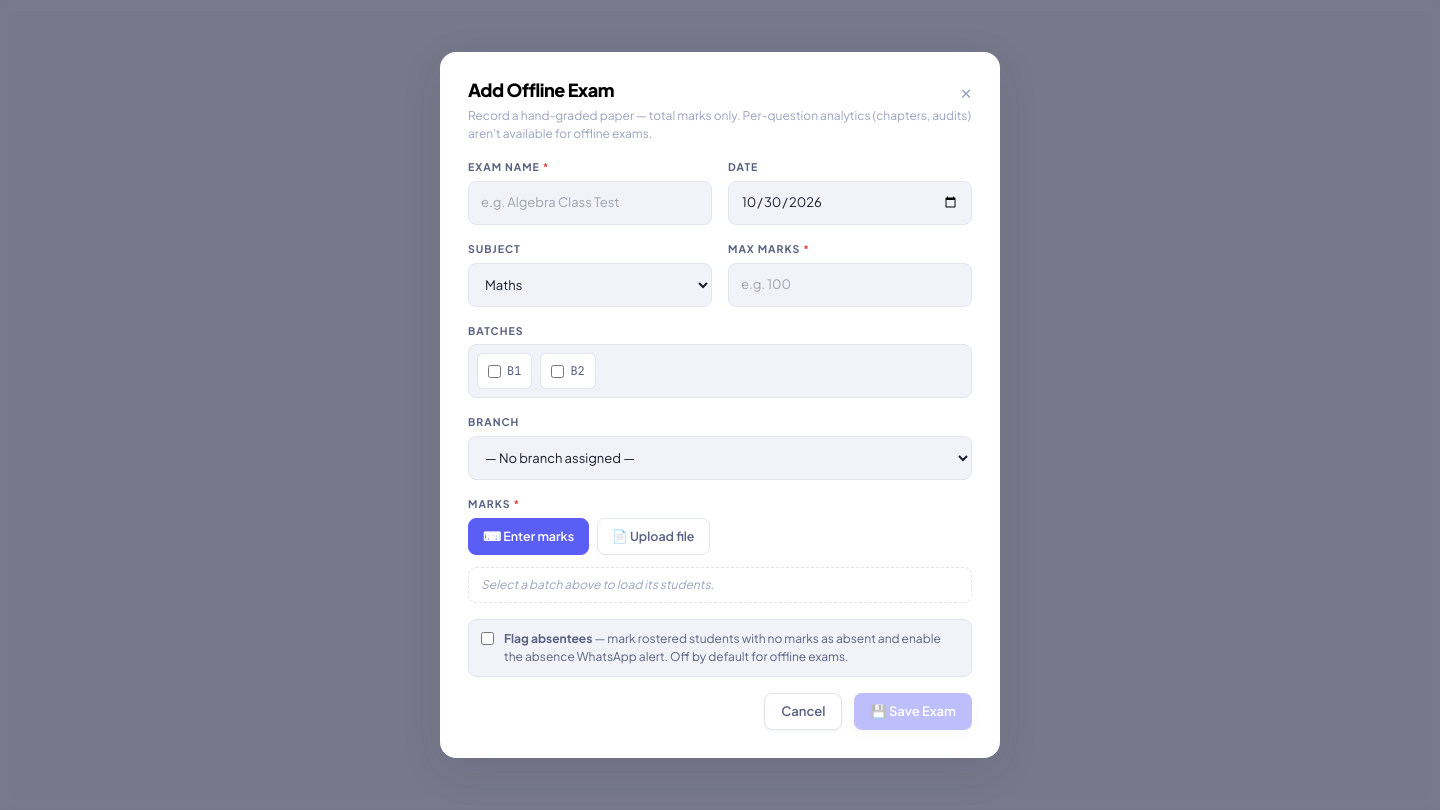
Test case: OfflineExamModal — roster grid › unions rosters when a second batch is selected
Click the checkbox labelled "B1" at (494, 371), box [488,365,501,378]
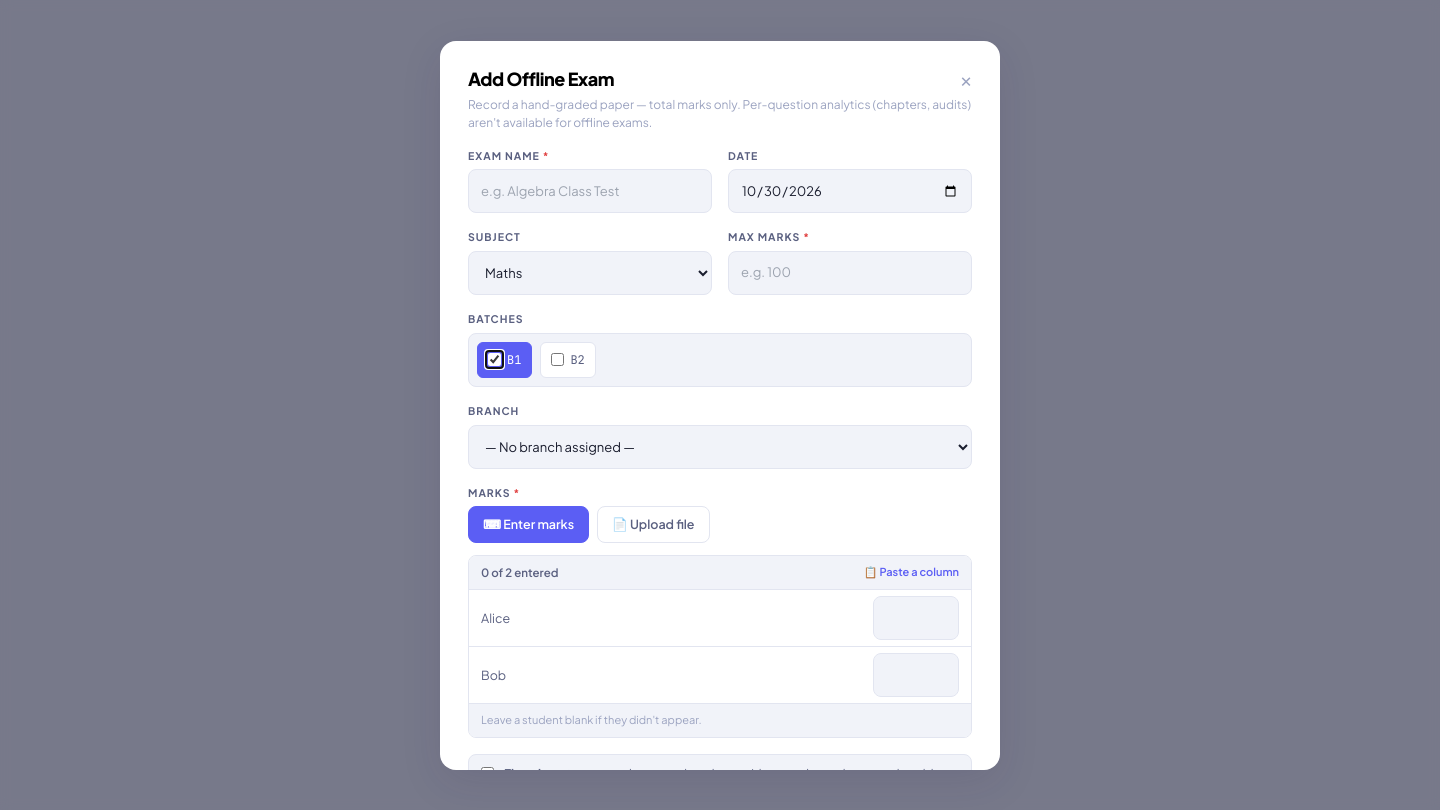
Click the checkbox labelled "B2" at (558, 360), box [551,353,564,366]
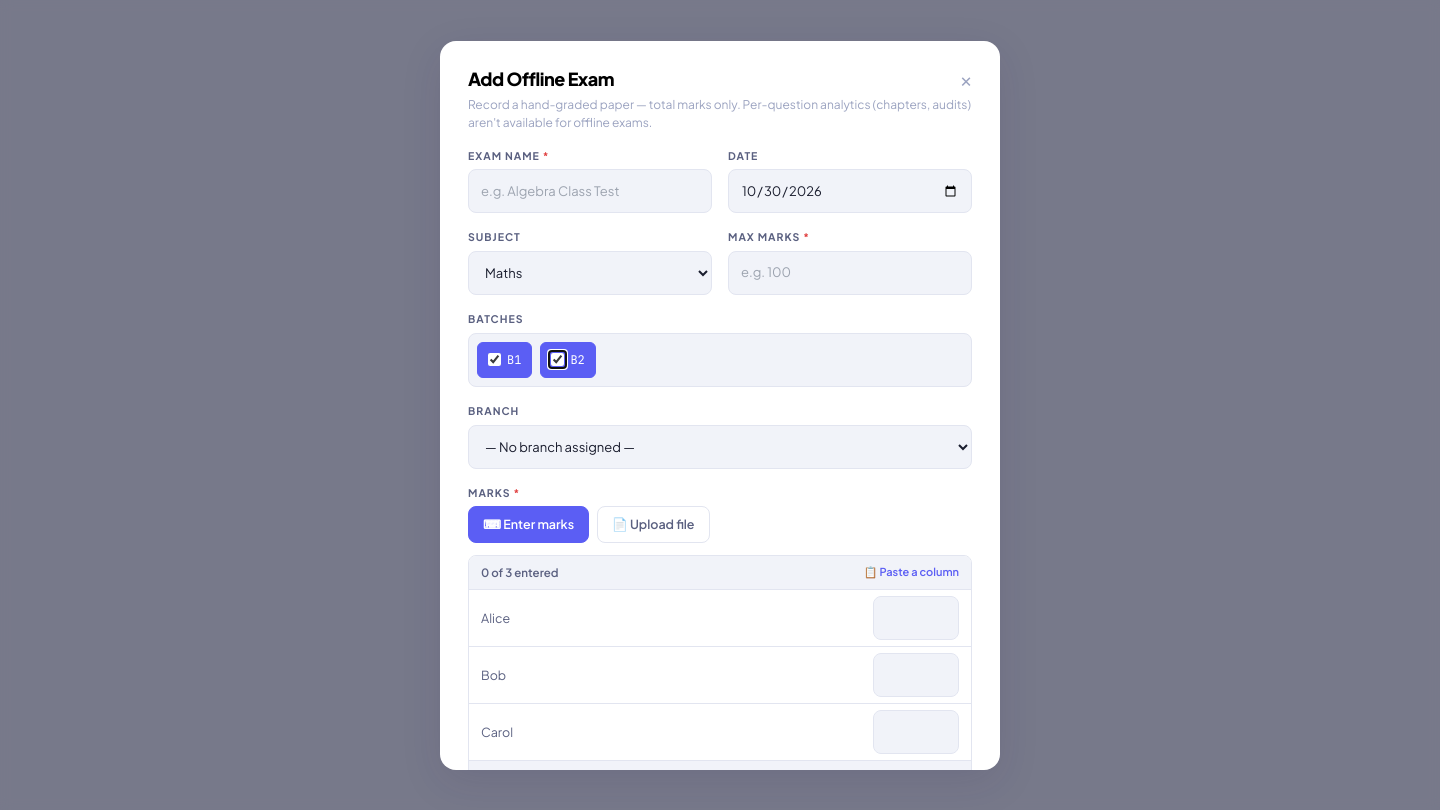
expect the text "Carol" is shown: met, box [469,704,861,760]
